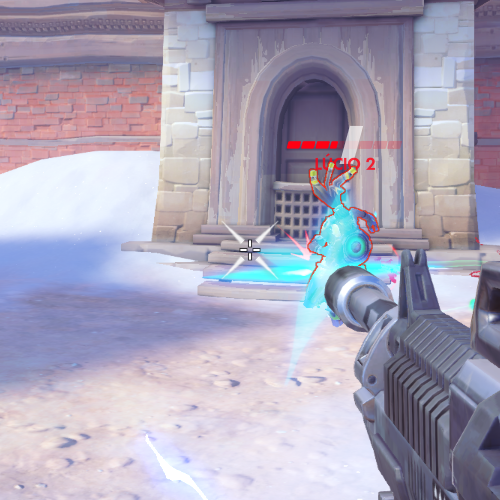hpbar: (286, 140, 403, 150)
